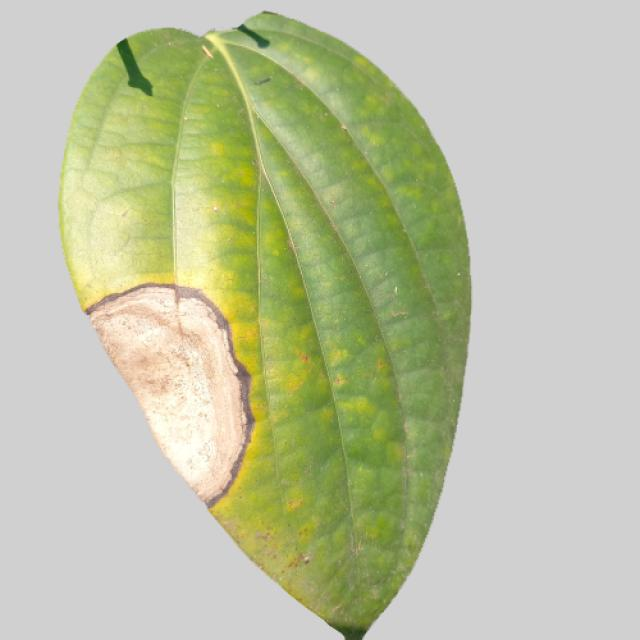leaf-blight: (40, 24, 480, 636)
